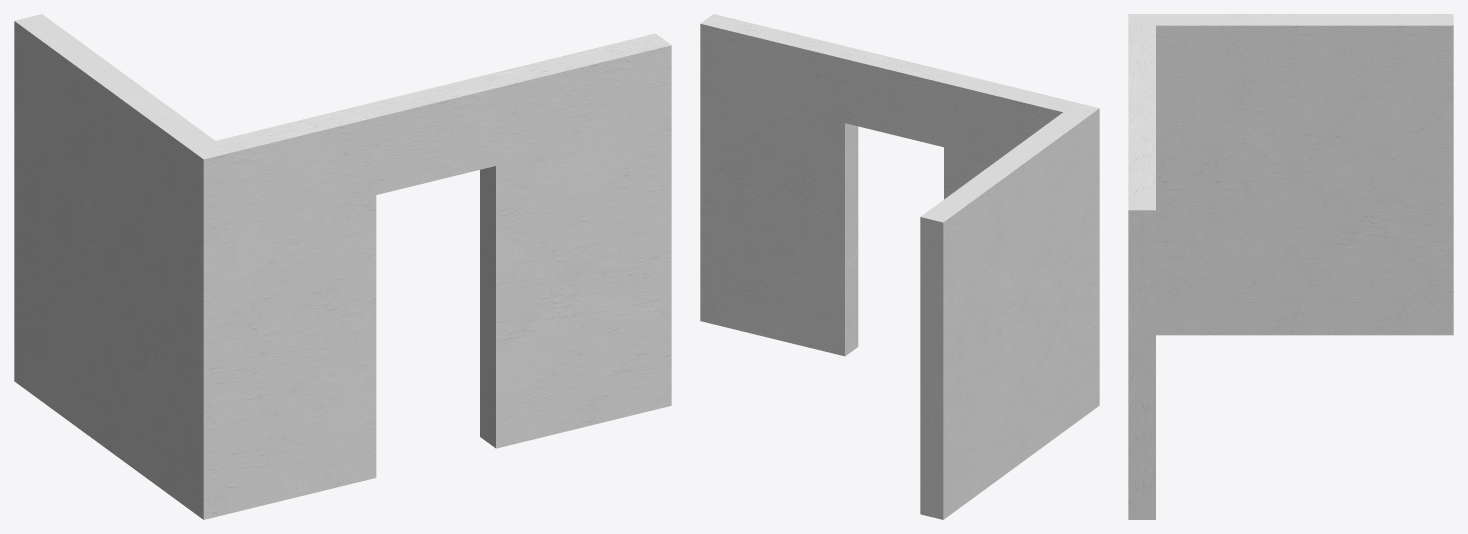
File: Wall 3.FBX
3 views of the same model, side by side, from view 1: azimuth 30°, elevation 25°; view 2: azimuth 150°, elevation 25°; view 3: azimuth 270°, elevation 25° (orthographic). The views are drawn at different scales.
Visible parts, largest first — view 1: Wall 3; view 2: Wall 3; view 3: Wall 3.
Part boxes in pixels (bbox=[...]): Wall 3: bbox=[14, 14, 671, 519]; Wall 3: bbox=[700, 14, 1099, 519]; Wall 3: bbox=[1128, 14, 1453, 519].
Bounding box in the file's own units: 370 × 272 × 259.
1 material, 1 textured.
